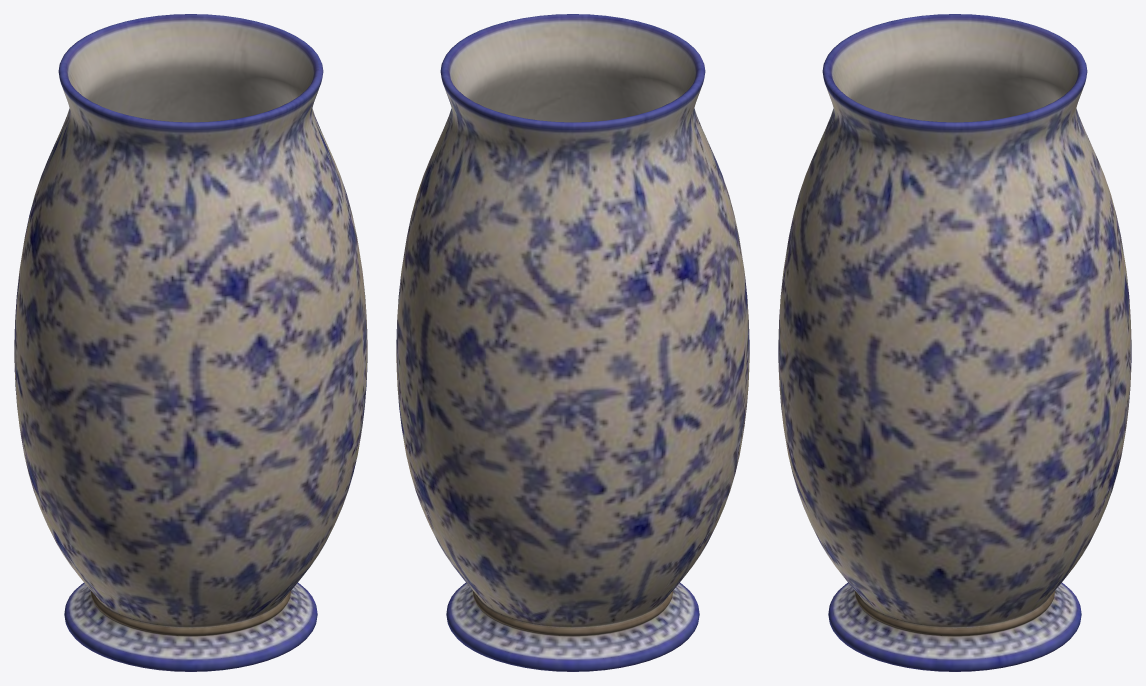
Rendered from antique_ceramic_vase_01.glb.
3 views of the same model, side by side, from view 1: azimuth 30°, elevation 25°; view 2: azimuth 150°, elevation 25°; view 3: azimuth 270°, elevation 25° (orthographic).
Parts seen in each view (by area): view 1: antique_ceramic_vase_01; view 2: antique_ceramic_vase_01; view 3: antique_ceramic_vase_01.
Part boxes in pixels (left/top/right/bottom): antique_ceramic_vase_01: left=14, top=14, right=367, bottom=671; antique_ceramic_vase_01: left=396, top=14, right=749, bottom=671; antique_ceramic_vase_01: left=778, top=14, right=1131, bottom=671.
Bounding box in the file's own units: 0.255 × 0.4396 × 0.255.
1 material, 1 textured.
